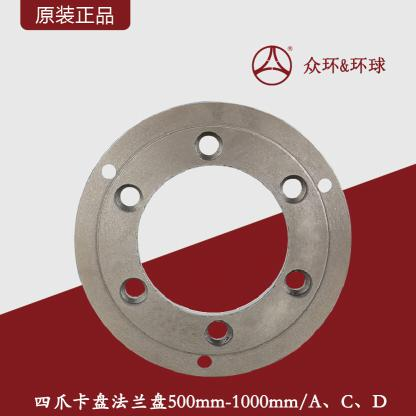FOD: (67, 102, 352, 381)
